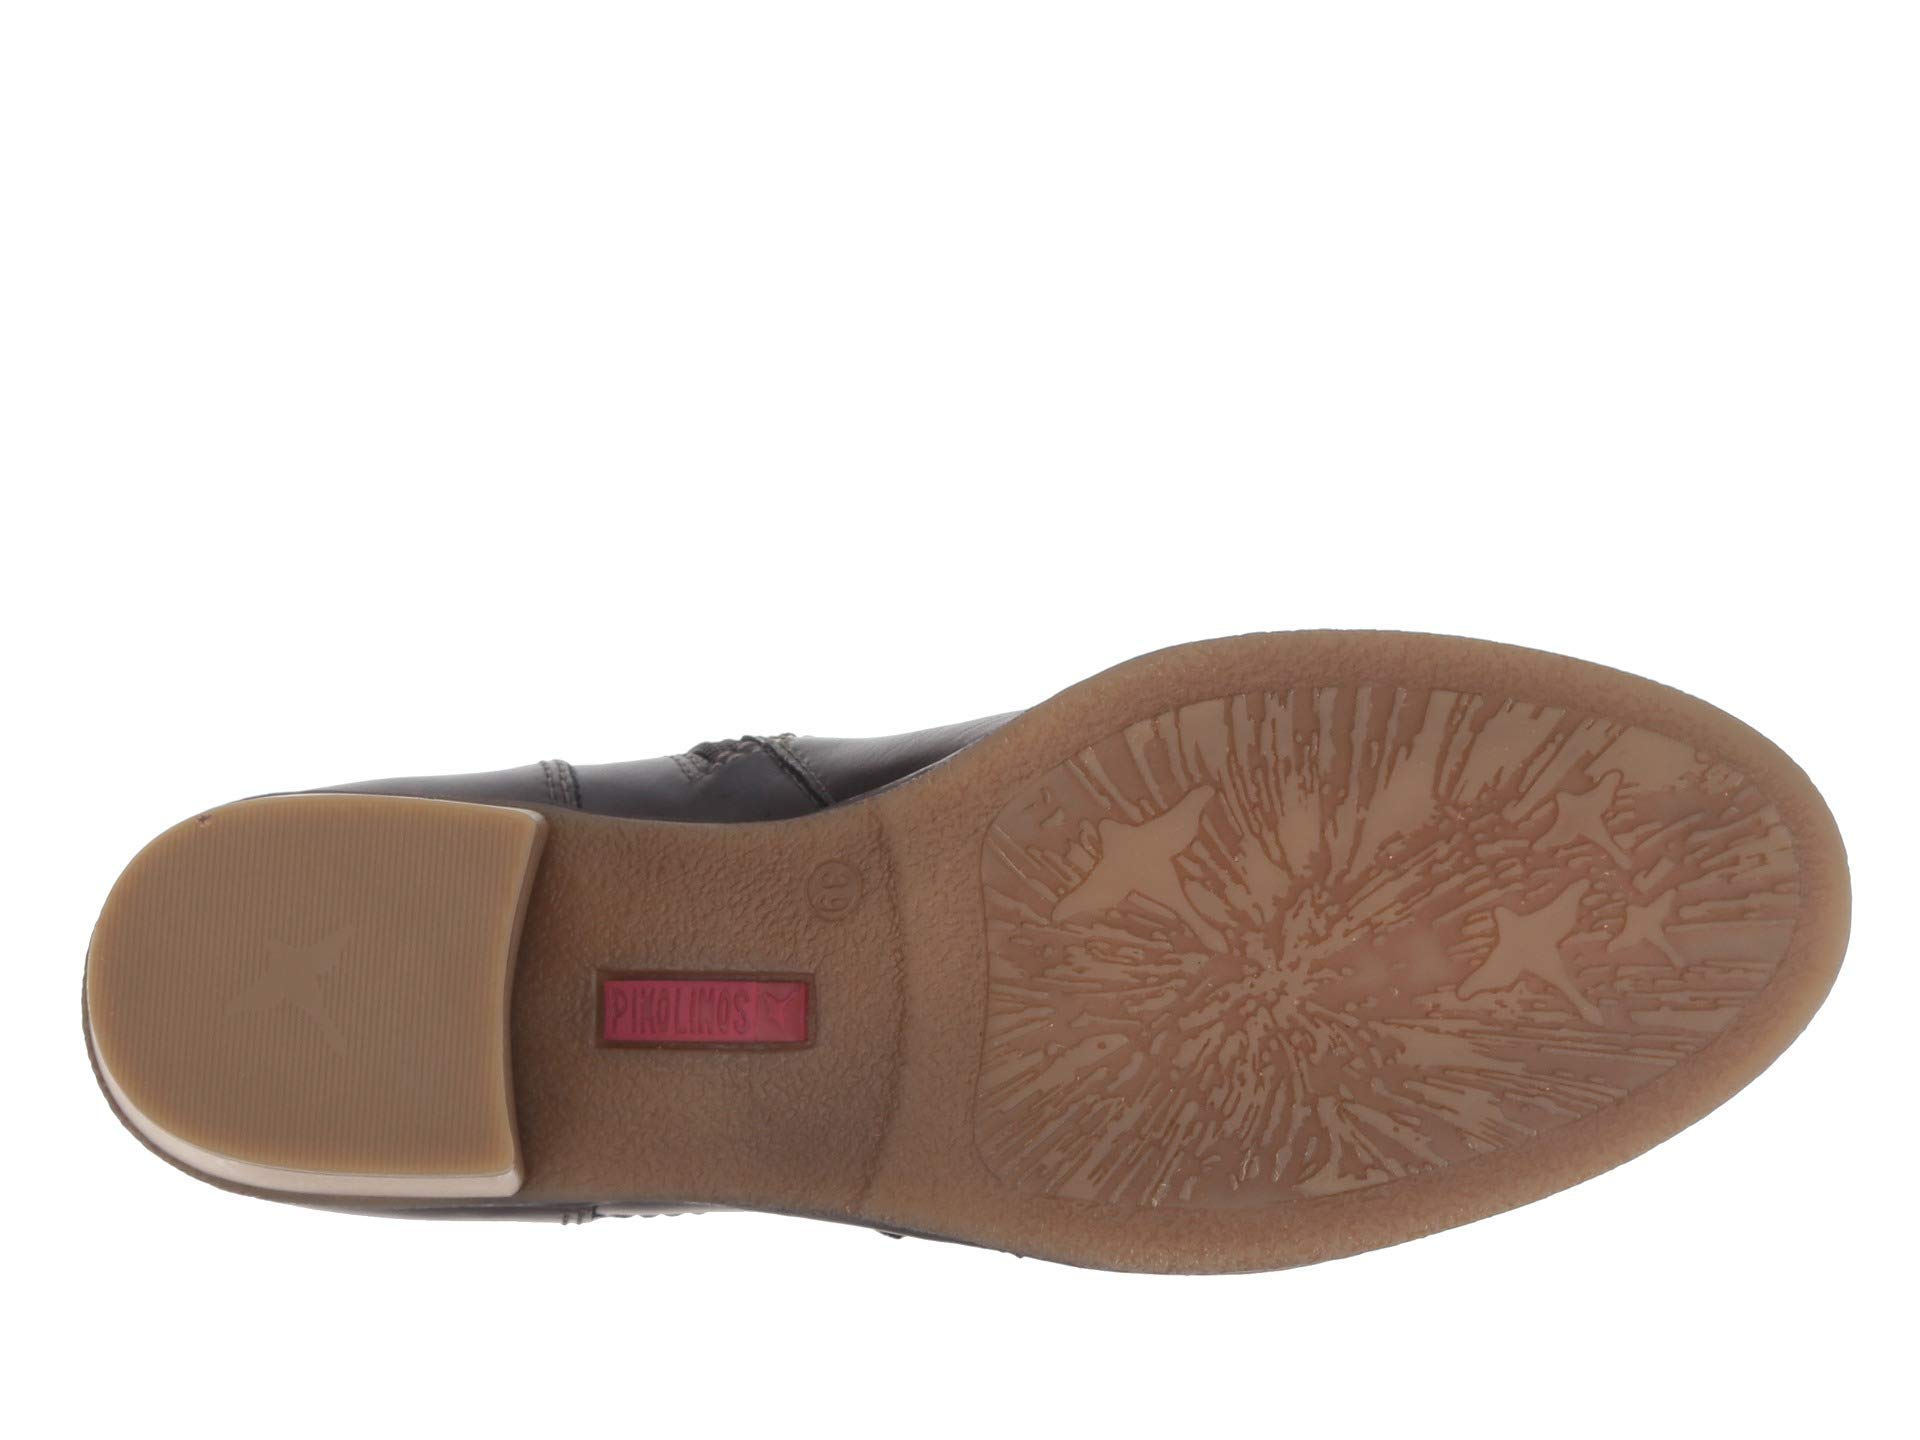circle: (794, 849, 883, 941)
line: (195, 891, 361, 1063), (364, 824, 500, 948), (361, 1053, 499, 1168)
other: (1063, 753, 1707, 1068), (1137, 995, 1355, 1201)
quad: (587, 964, 821, 1178)
star: (1417, 843, 1646, 1063), (1039, 753, 1240, 970), (195, 891, 361, 1063)
text: (587, 964, 821, 1178), (794, 849, 883, 941)
